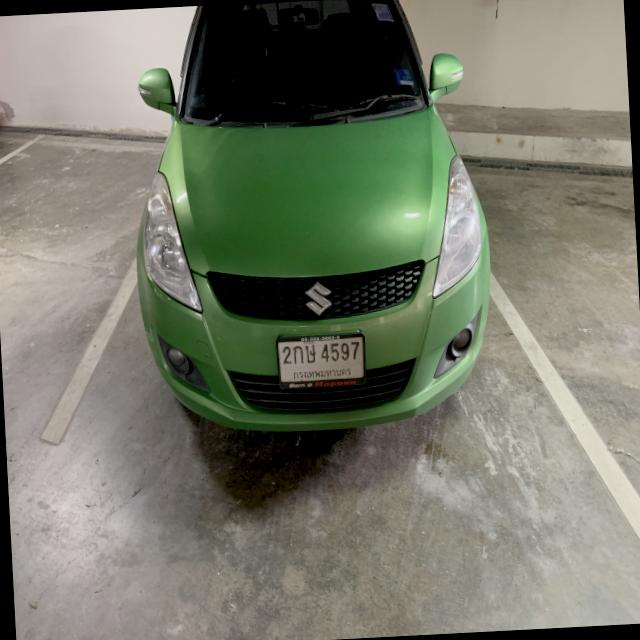license_plate: (274, 328, 368, 394)
